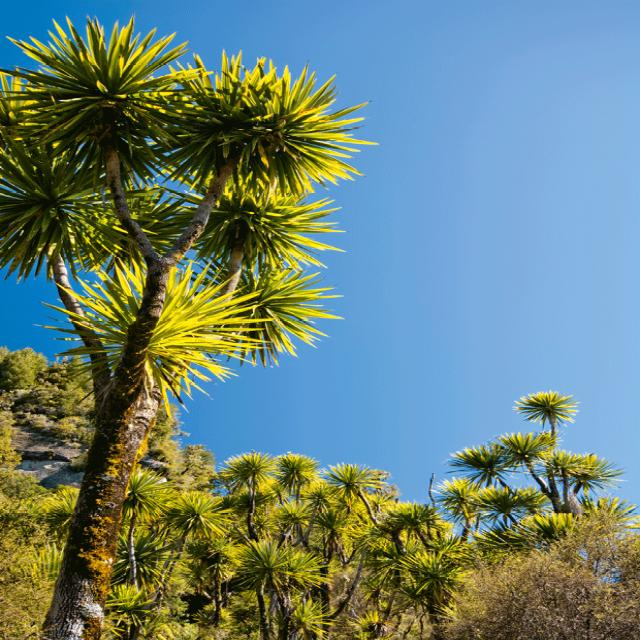Cordyline australis: (5, 18, 307, 638)
